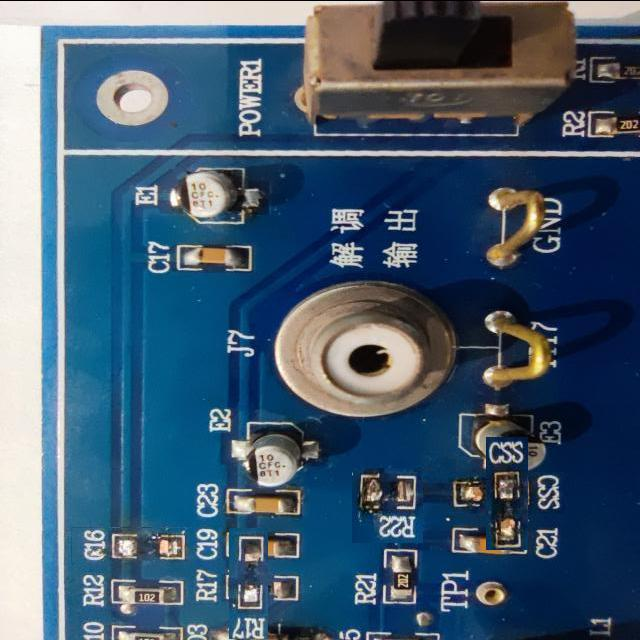miss_welding: (468, 454, 546, 532), (210, 547, 288, 624), (351, 469, 424, 542), (71, 527, 191, 563)
